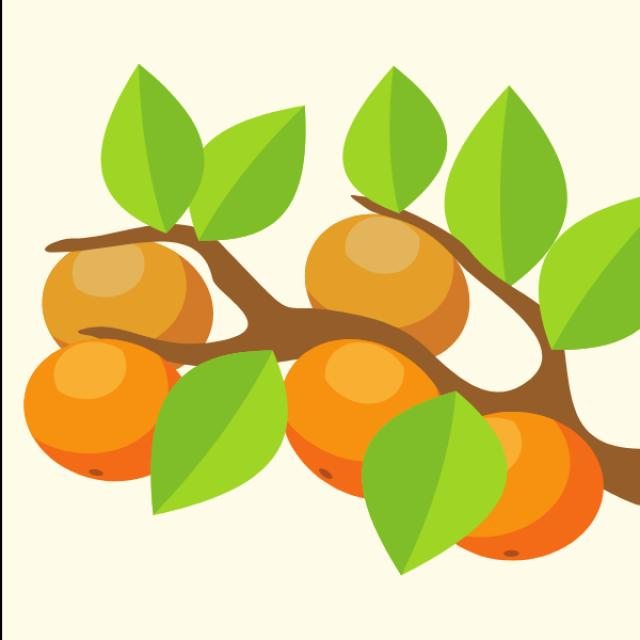orange: (298, 188, 474, 353), (16, 225, 220, 352), (280, 341, 436, 498), (26, 334, 183, 489), (476, 408, 608, 575)
